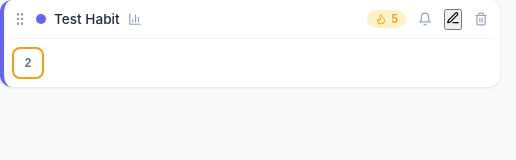
Test: HabitRow › shows delete confirmation before deleting
This screenshot has width=516, height=160.
Click the button titled "Delete habit" at (481, 19), box [470,8,492,30]
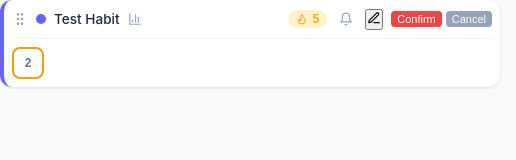
Expected: the button "Confirm" is shown, [391,11,442,27]
